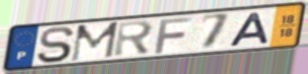7: (199, 13, 230, 52)
A: (227, 11, 271, 48)
F: (153, 16, 195, 55)
M: (68, 20, 121, 63)
R: (111, 19, 156, 59)
S: (35, 25, 77, 65)
